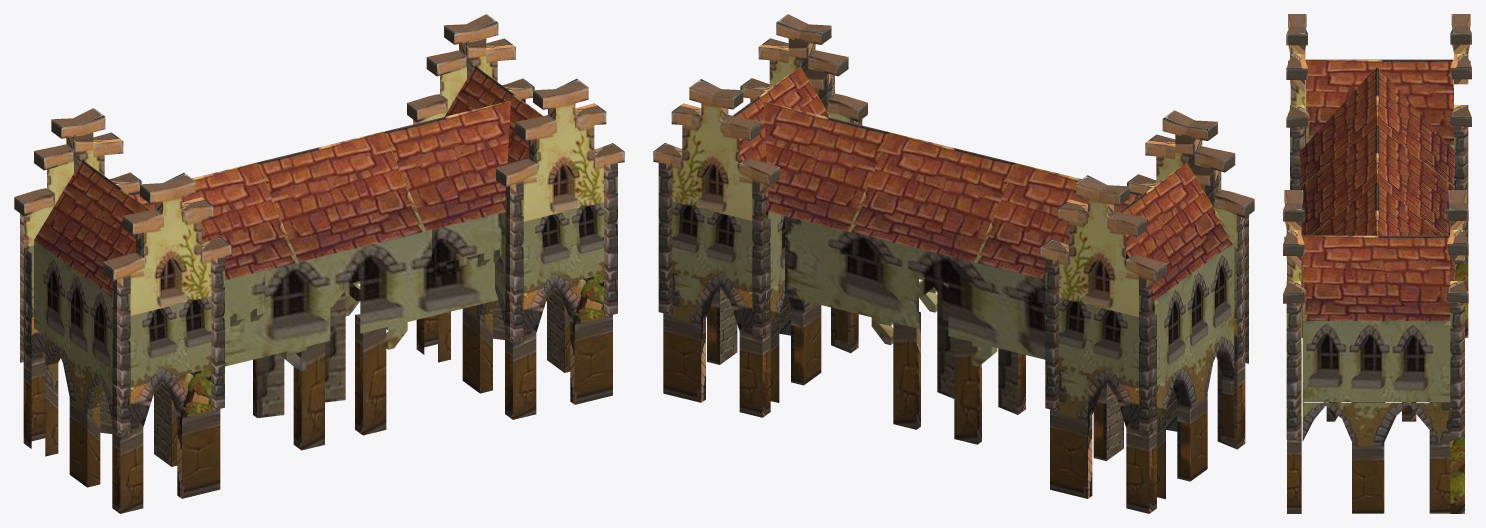
The model's file is hall.glb.
3 views of the same model, side by side, from view 1: azimuth 30°, elevation 25°; view 2: azimuth 150°, elevation 25°; view 3: azimuth 270°, elevation 25° (orthographic). The views are drawn at different scales.
Visible parts, largest first — view 1: h13.002; view 2: h13.002; view 3: h13.002.
Part boxes in pixels (x1,y1,x2,y2): h13.002: (14, 14, 624, 513); h13.002: (653, 14, 1254, 513); h13.002: (1283, 14, 1471, 513).
Bounding box in the file's own units: 6.52 × 3.87 × 2.27.
Materials: 1 (1 with a texture image).
